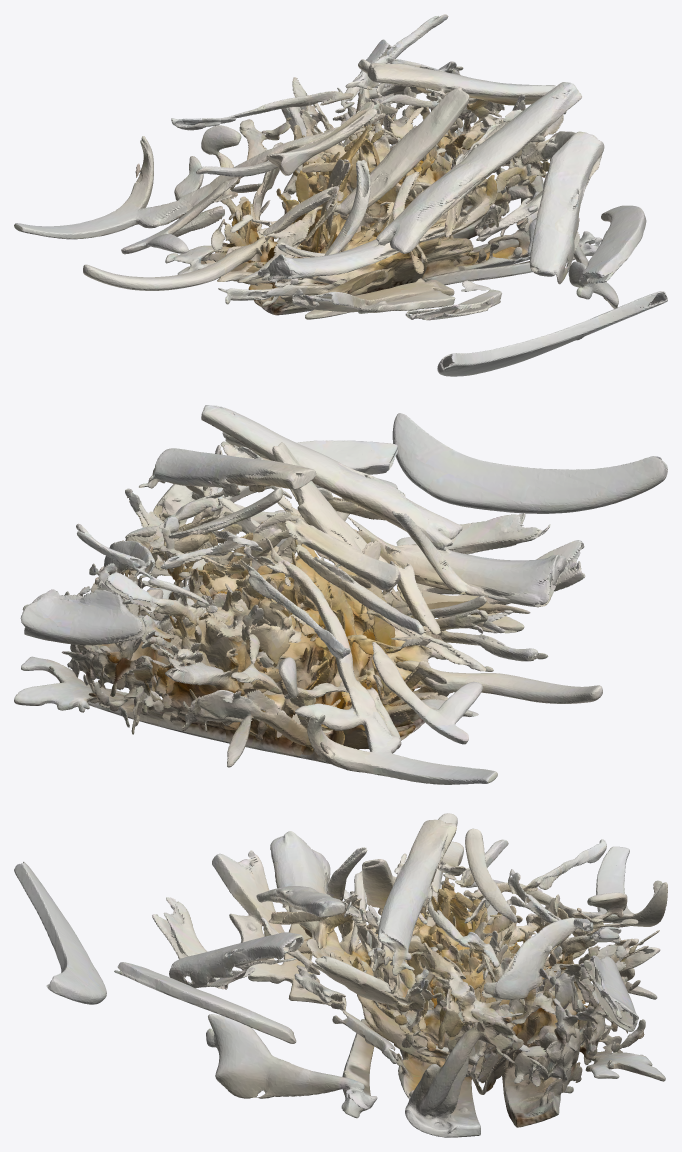
The model's file is topping_coco.glb.
3 views of the same model, one above another, from view 1: azimuth 30°, elevation 25°; view 2: azimuth 150°, elevation 25°; view 3: azimuth 270°, elevation 25° (orthographic). The views are drawn at different scales.
Visible parts, largest first — view 1: tripo_node_52d21e41-5a52-4ad7-8cca-fad40260a398; view 2: tripo_node_52d21e41-5a52-4ad7-8cca-fad40260a398; view 3: tripo_node_52d21e41-5a52-4ad7-8cca-fad40260a398.
Part boxes in pixels (x1,y1,x2,y2): tripo_node_52d21e41-5a52-4ad7-8cca-fad40260a398: [14, 14, 667, 376]; tripo_node_52d21e41-5a52-4ad7-8cca-fad40260a398: [14, 405, 667, 784]; tripo_node_52d21e41-5a52-4ad7-8cca-fad40260a398: [14, 813, 667, 1137].
Bounding box in the file's own units: 0.8527 × 0.4052 × 1.
1 material, 1 textured.
